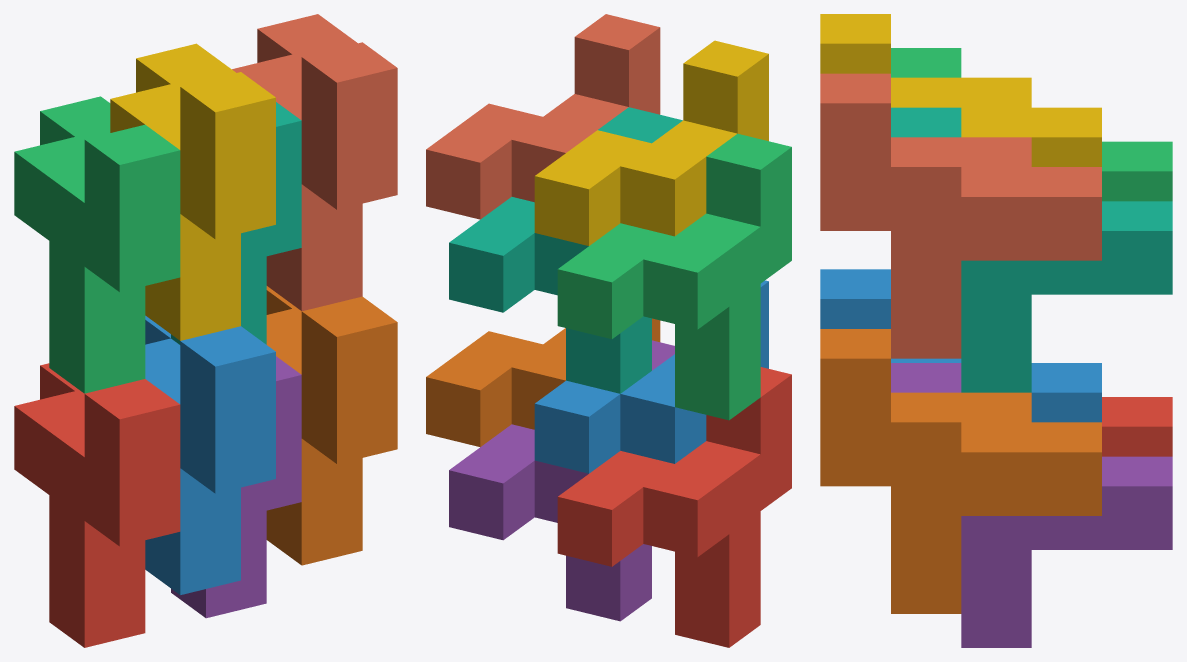
Rendered from tiling.obj.
3 renders of one model, left to right at view 1: azimuth 30°, elevation 25°; view 2: azimuth 150°, elevation 25°; view 3: azimuth 270°, elevation 25°, orthographic. The views are drawn at different scales.
Visible parts, largest first — view 1: copy_1_domain_3, copy_1_domain_1, copy_1_domain_4, copy_1_domain_8, copy_1_domain_6, copy_1_domain_2, copy_1_domain_5, copy_1_domain_7; view 2: copy_1_domain_3, copy_1_domain_1, copy_1_domain_4, copy_1_domain_8, copy_1_domain_7, copy_1_domain_5, copy_1_domain_2, copy_1_domain_6; view 3: copy_1_domain_6, copy_1_domain_8, copy_1_domain_7, copy_1_domain_5, copy_1_domain_4, copy_1_domain_2, copy_1_domain_3, copy_1_domain_1.
Boxes of the visible parts, box(x1,y1,x2,y2) form: copy_1_domain_3: box(14, 96, 180, 393); copy_1_domain_1: box(14, 363, 180, 647); copy_1_domain_4: box(110, 43, 275, 340); copy_1_domain_8: box(232, 14, 397, 311); copy_1_domain_6: box(266, 286, 397, 565); copy_1_domain_2: box(145, 315, 275, 594); copy_1_domain_5: box(171, 356, 301, 618); copy_1_domain_7: box(171, 102, 301, 344); copy_1_domain_3: box(557, 133, 791, 420); copy_1_domain_1: box(557, 367, 791, 647); copy_1_domain_4: box(534, 40, 768, 245); copy_1_domain_8: box(426, 14, 660, 219); copy_1_domain_7: box(449, 107, 682, 393); copy_1_domain_5: box(449, 340, 674, 621); copy_1_domain_2: box(534, 280, 768, 473); copy_1_domain_6: box(426, 318, 660, 446); copy_1_domain_6: box(820, 329, 1101, 613); copy_1_domain_8: box(820, 73, 1101, 358); copy_1_domain_7: box(891, 107, 1172, 392); copy_1_domain_5: box(891, 363, 1172, 647); copy_1_domain_4: box(820, 14, 1101, 166); copy_1_domain_2: box(820, 269, 1101, 422); copy_1_domain_3: box(891, 48, 1172, 201); copy_1_domain_1: box(1102, 397, 1172, 456).
Size of the model in its own units: 5 by 9 by 5.
